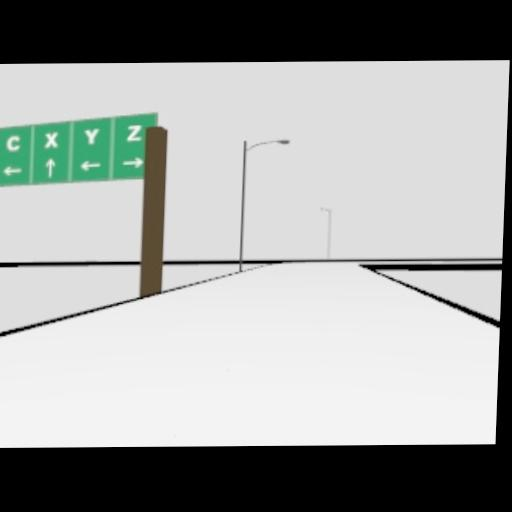C: (6, 135, 20, 151)
Left: (79, 160, 101, 170), (1, 166, 22, 176)
Right: (122, 156, 144, 168)
Straight: (44, 157, 55, 177)
X: (44, 131, 58, 147)
Y: (82, 127, 98, 143)
Z: (126, 124, 142, 140)
